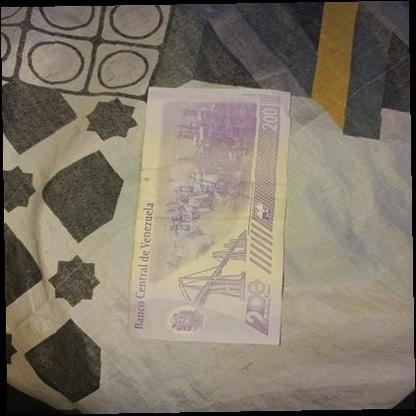two_hundred-back-vef: (127, 86, 291, 345)
